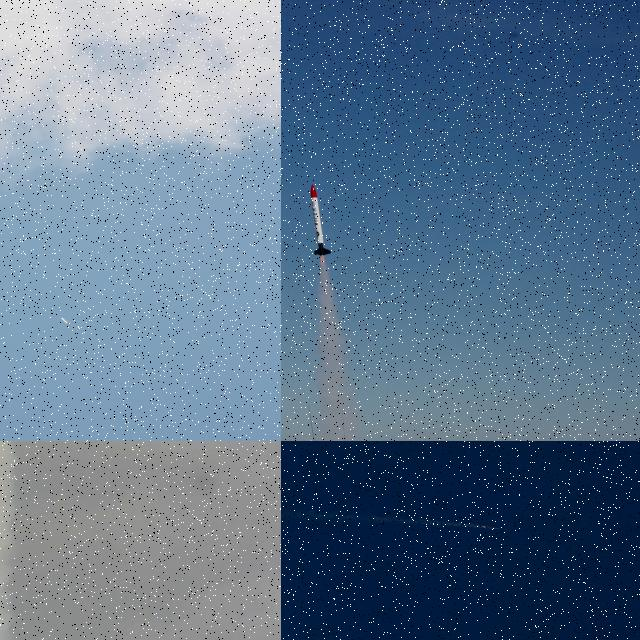Rocket: (310, 184, 332, 256), (480, 524, 500, 530), (60, 317, 72, 325)
